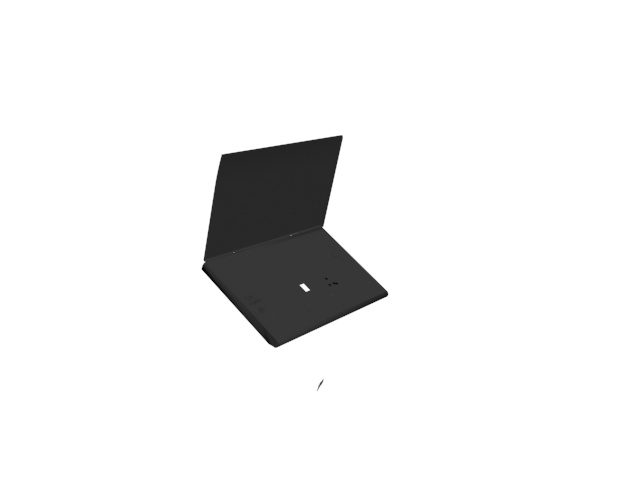laptop_computer: (201, 129, 392, 392)
